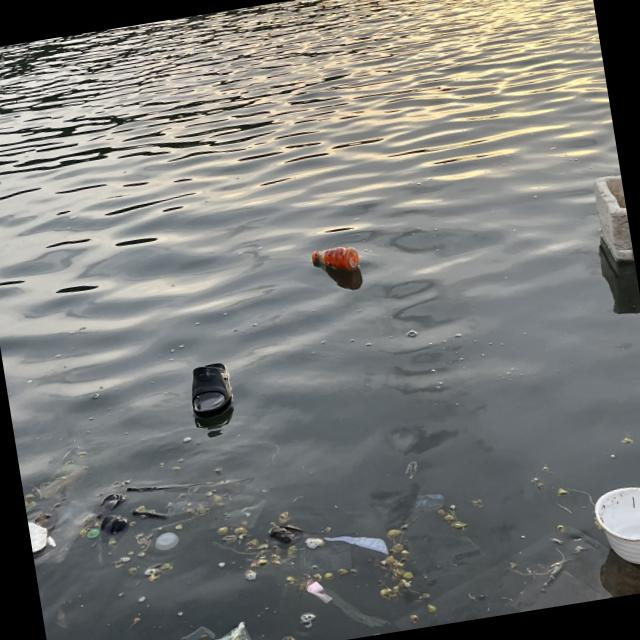foam: (594, 481, 640, 573), (591, 173, 635, 263), (29, 517, 53, 557)
plastic bottle: (312, 246, 364, 278)
